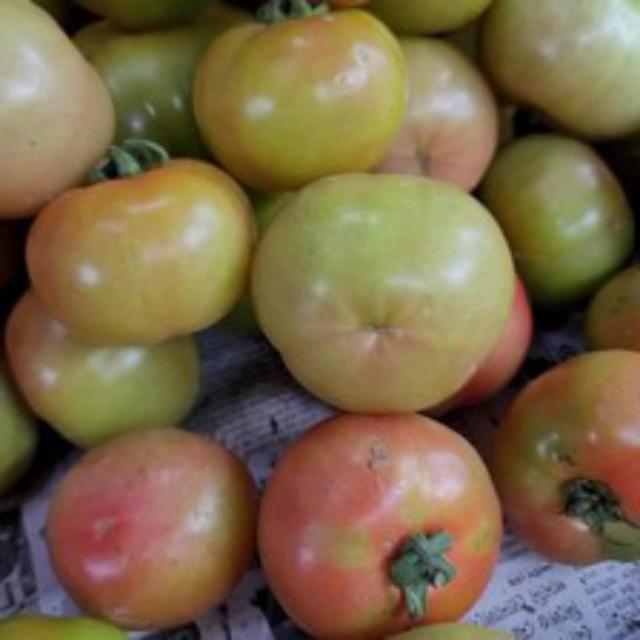tomato: (263, 403, 508, 637)
